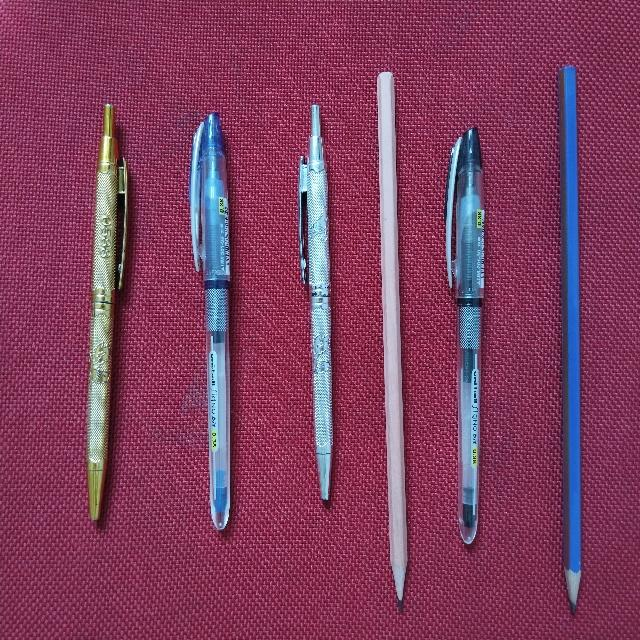pen: (189, 113, 229, 529), (445, 128, 483, 543)
pencil: (377, 72, 407, 610), (558, 66, 580, 611)
signature pen: (87, 104, 126, 519), (298, 105, 332, 500)
